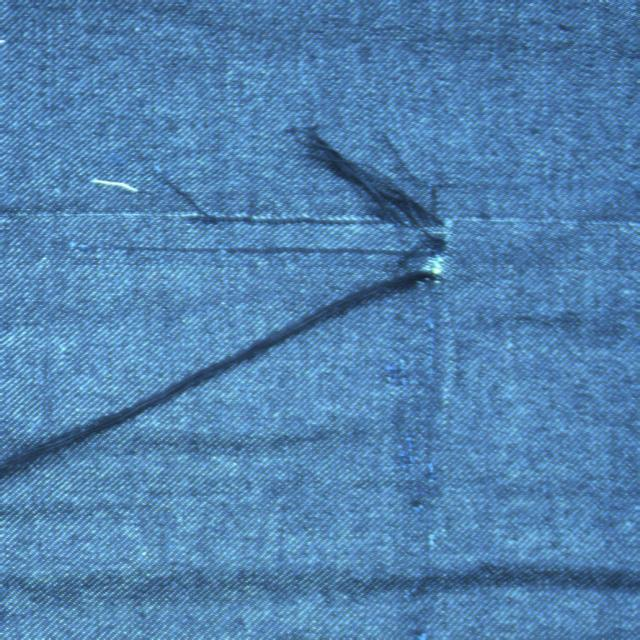defect: (0, 267, 441, 485), (278, 118, 478, 278), (184, 198, 385, 218), (59, 176, 168, 196)
